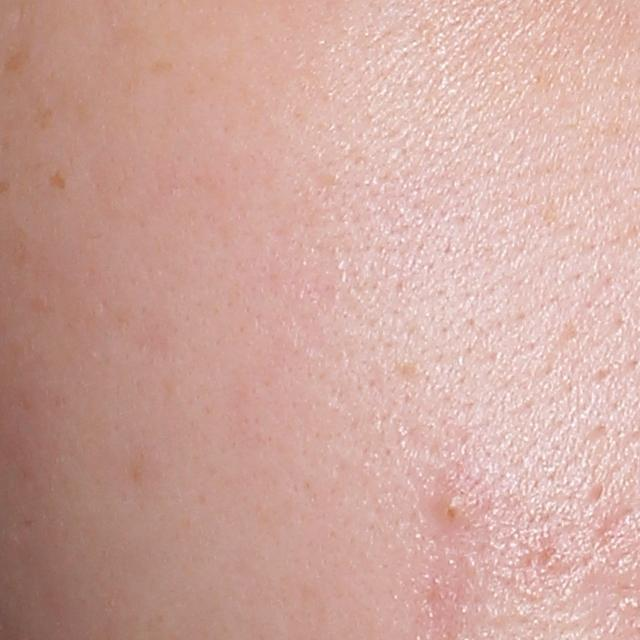comedo: (439, 493, 473, 525)
melasma: (31, 100, 58, 132), (145, 56, 176, 77), (46, 170, 69, 193)
